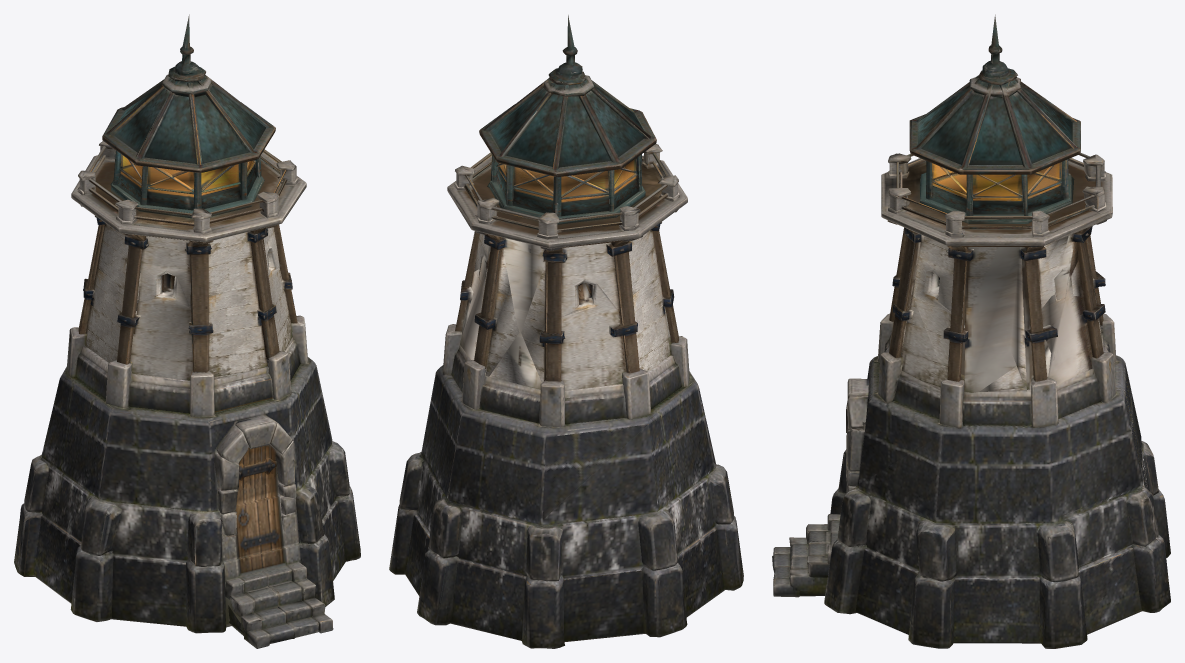
File: lantern_tower_civic.glb
3 views of the same model, side by side, from view 1: azimuth 30°, elevation 25°; view 2: azimuth 150°, elevation 25°; view 3: azimuth 270°, elevation 25° (orthographic). The views are drawn at different scales.
Visible parts, largest first — view 1: Mesh_0; view 2: Mesh_0; view 3: Mesh_0.
Part boxes in pixels (x1=…): Mesh_0: x1=14, y1=14, x2=360, y2=648; Mesh_0: x1=389, y1=15, x2=743, y2=648; Mesh_0: x1=772, y1=14, x2=1170, y2=648.
Size of the model in its own units: 0.3848 by 0.7087 by 0.4531.
1 material, 1 textured.
